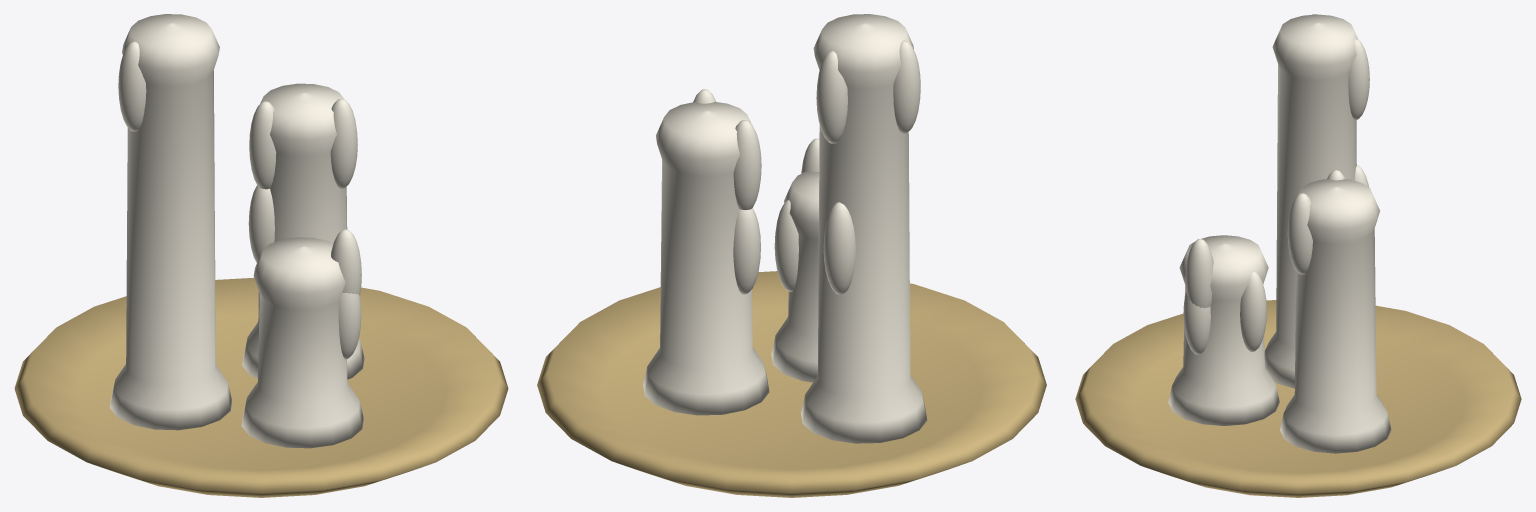
File: candles.glb
The picture shows the model from 3 angles, left to right: view 1: azimuth 30°, elevation 25°; view 2: azimuth 150°, elevation 25°; view 3: azimuth 270°, elevation 25°; orthographic projection. The views are drawn at different scales.
Visible parts, largest first — view 1: candles_mesh; view 2: candles_mesh; view 3: candles_mesh.
Boxes of the visible parts, x1,y1,x2,y2 form: candles_mesh: (14,14,508,497); candles_mesh: (537,14,1046,497); candles_mesh: (1075,14,1521,497).
Size of the model in its own units: 0.24 by 0.214 by 0.24.
